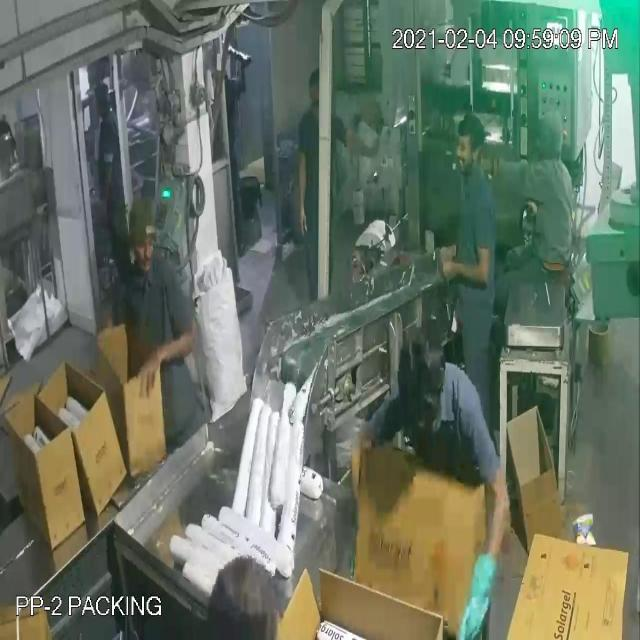No_Gloves: (20, 81, 484, 546)
